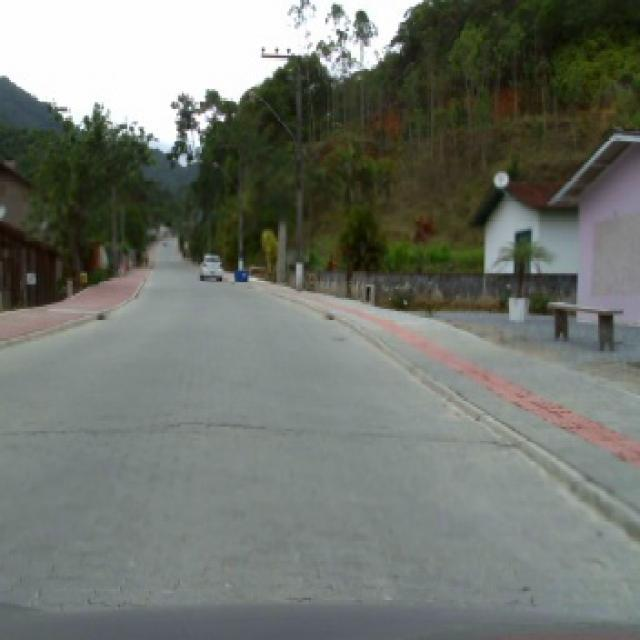Poth-hole: (95, 311, 104, 320), (323, 311, 332, 318)
